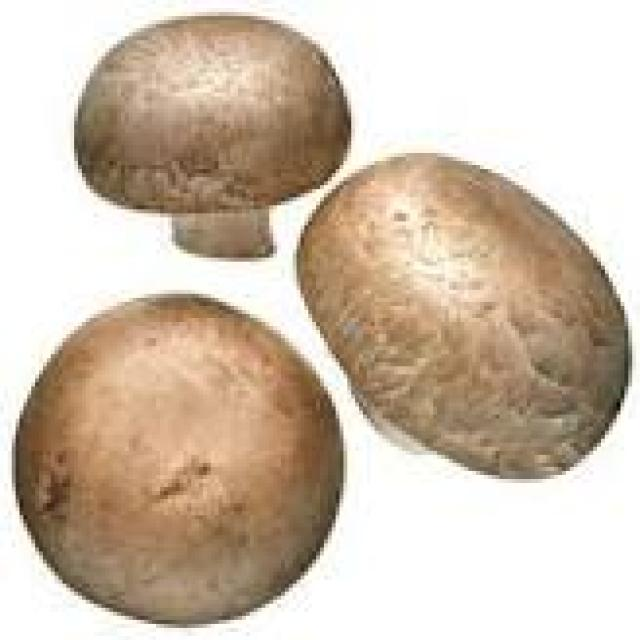mushrooms: (12, 8, 624, 636)
